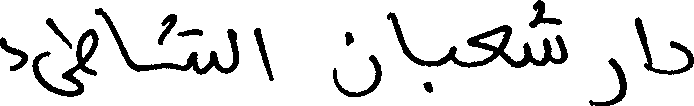ئ: (0, 16, 76, 98)
ا: (101, 7, 133, 71), (388, 10, 412, 64), (252, 25, 273, 81), (634, 14, 653, 72)
ب: (418, 44, 458, 98)
د: (651, 38, 692, 75)
ر: (589, 56, 625, 104)
ش: (155, 13, 217, 75), (524, 0, 568, 66)
ط: (75, 6, 97, 96)
ع: (467, 22, 512, 67)
ل: (226, 27, 239, 74)
ن: (331, 30, 383, 97)
